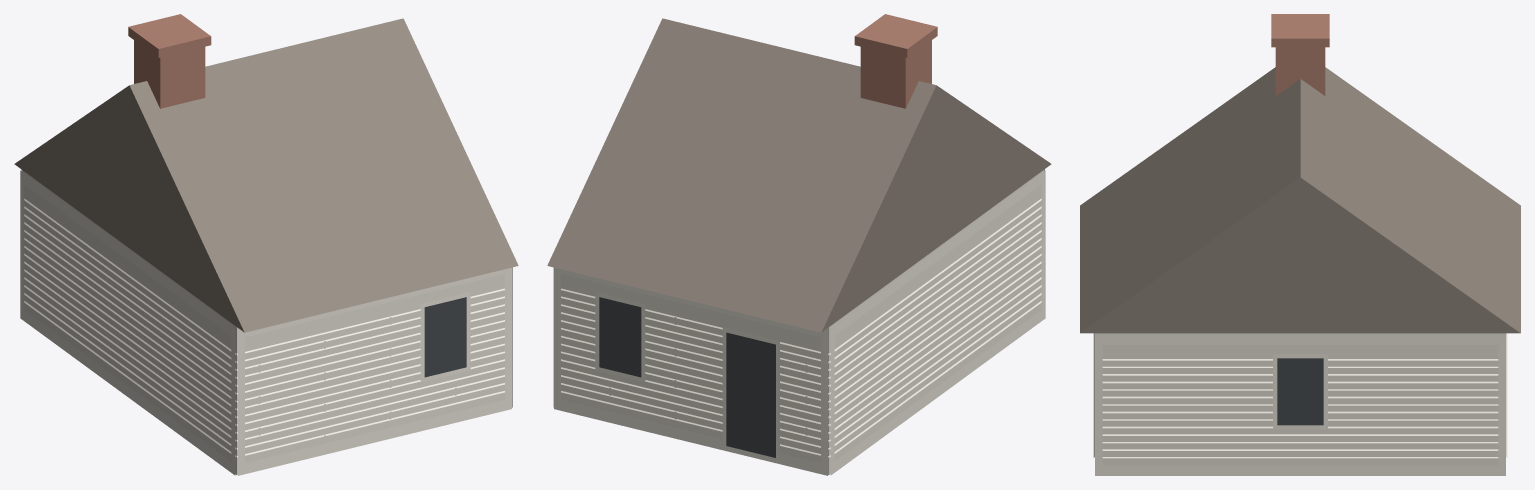
Rendered from recon_1835_blk_randolph_dearborn_d3_01__inferred_1835.glb.
3 views of the same model, side by side, from view 1: azimuth 30°, elevation 25°; view 2: azimuth 150°, elevation 25°; view 3: azimuth 270°, elevation 25° (orthographic). The views are drawn at different scales.
Parts seen in each view (by area): view 1: recon_1835_blk_randolph_dearborn_d3_01__inferred_1835; view 2: recon_1835_blk_randolph_dearborn_d3_01__inferred_1835; view 3: recon_1835_blk_randolph_dearborn_d3_01__inferred_1835.
Part boxes in pixels (x1,y1,x2,y2): recon_1835_blk_randolph_dearborn_d3_01__inferred_1835: [14, 14, 518, 475]; recon_1835_blk_randolph_dearborn_d3_01__inferred_1835: [547, 14, 1051, 475]; recon_1835_blk_randolph_dearborn_d3_01__inferred_1835: [1080, 14, 1520, 475].
Bounding box in the file's own units: 5.18 × 6.32 × 7.43.
